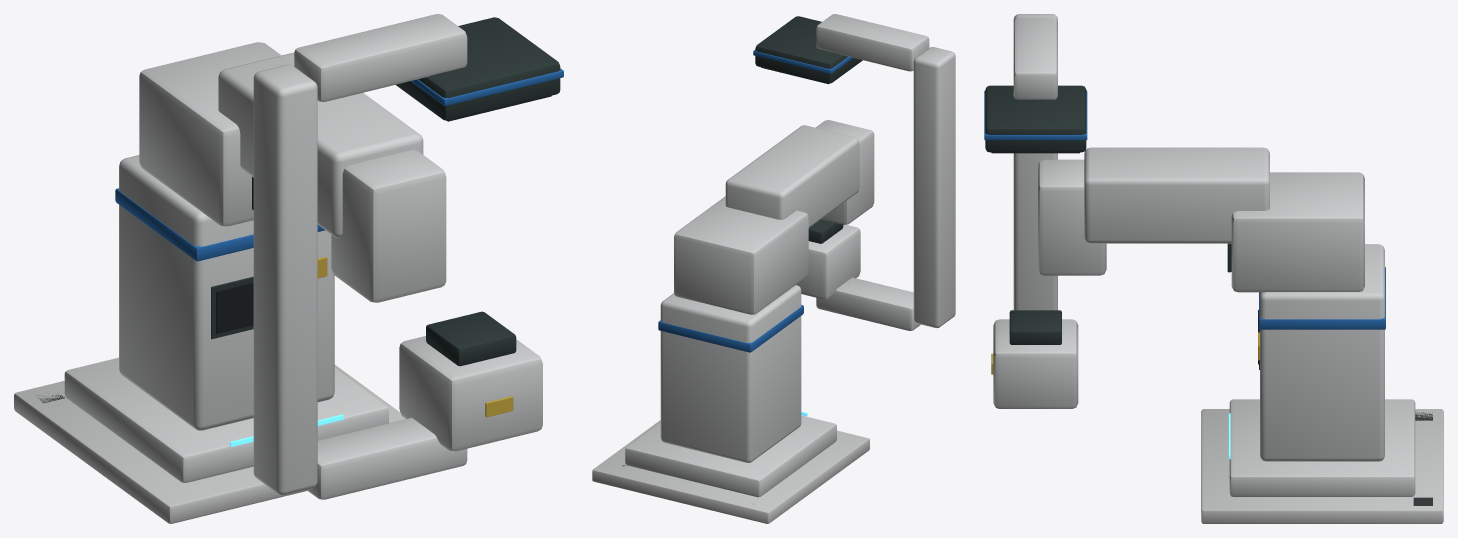
Rendered from sc-robotic-c-arm.glb.
The picture shows the model from 3 angles, left to right: view 1: azimuth 30°, elevation 25°; view 2: azimuth 150°, elevation 25°; view 3: azimuth 270°, elevation 25°; orthographic projection. The views are drawn at different scales.
Parts seen in each view (by area): view 1: sc-robotic-c-arm; view 2: sc-robotic-c-arm; view 3: sc-robotic-c-arm.
Part boxes in pixels (left/top/right/bottom): sc-robotic-c-arm: left=14, top=14, right=563, bottom=523; sc-robotic-c-arm: left=592, top=14, right=955, bottom=523; sc-robotic-c-arm: left=984, top=14, right=1443, bottom=523.
Bounding box in the file's own units: 1.25 × 2.28 × 2.27.
